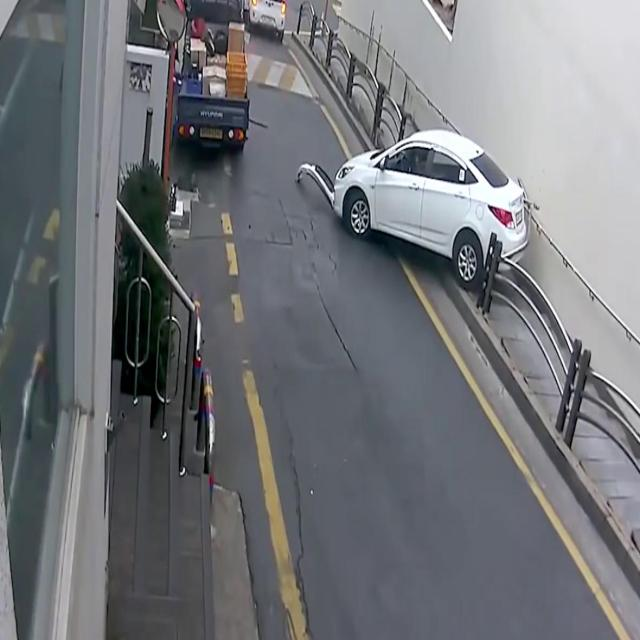accident: (293, 115, 538, 299)
non_accident: (161, 0, 291, 171)
